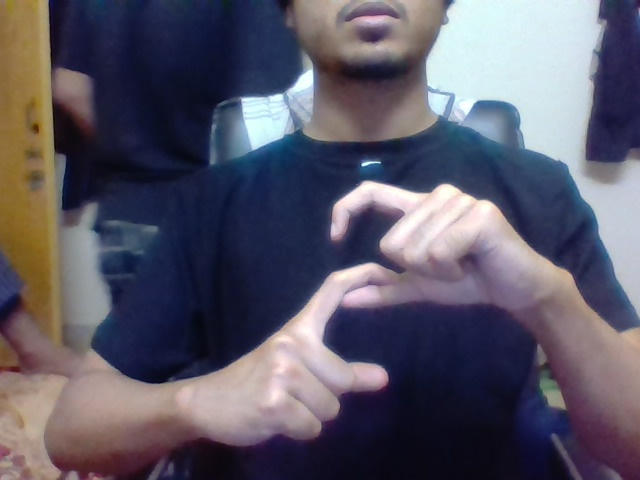S: (319, 169, 406, 359)
